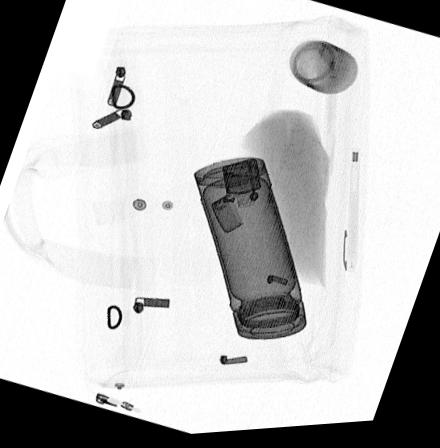Lighter: (210, 162, 261, 236)
